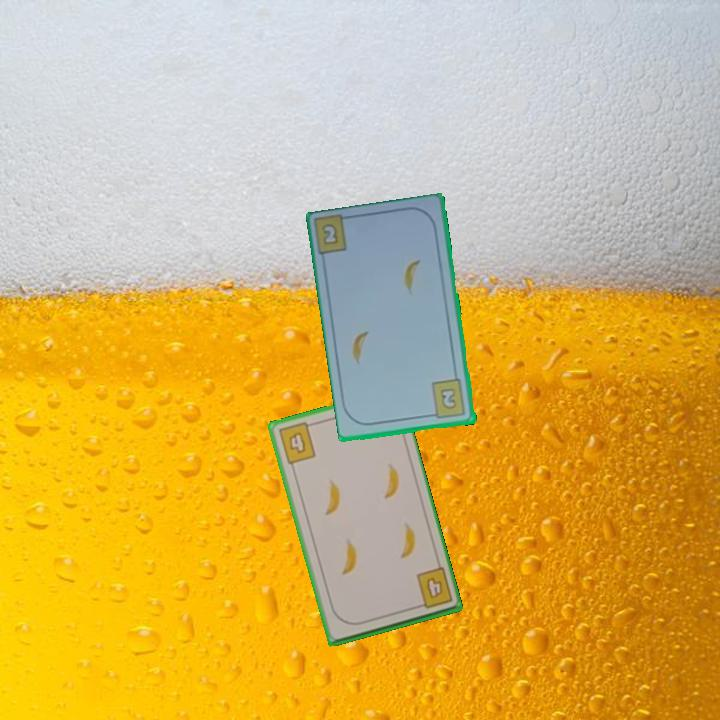2b: (426, 376, 468, 422), (318, 220, 341, 248)
4b: (411, 564, 455, 612), (275, 419, 318, 467)
